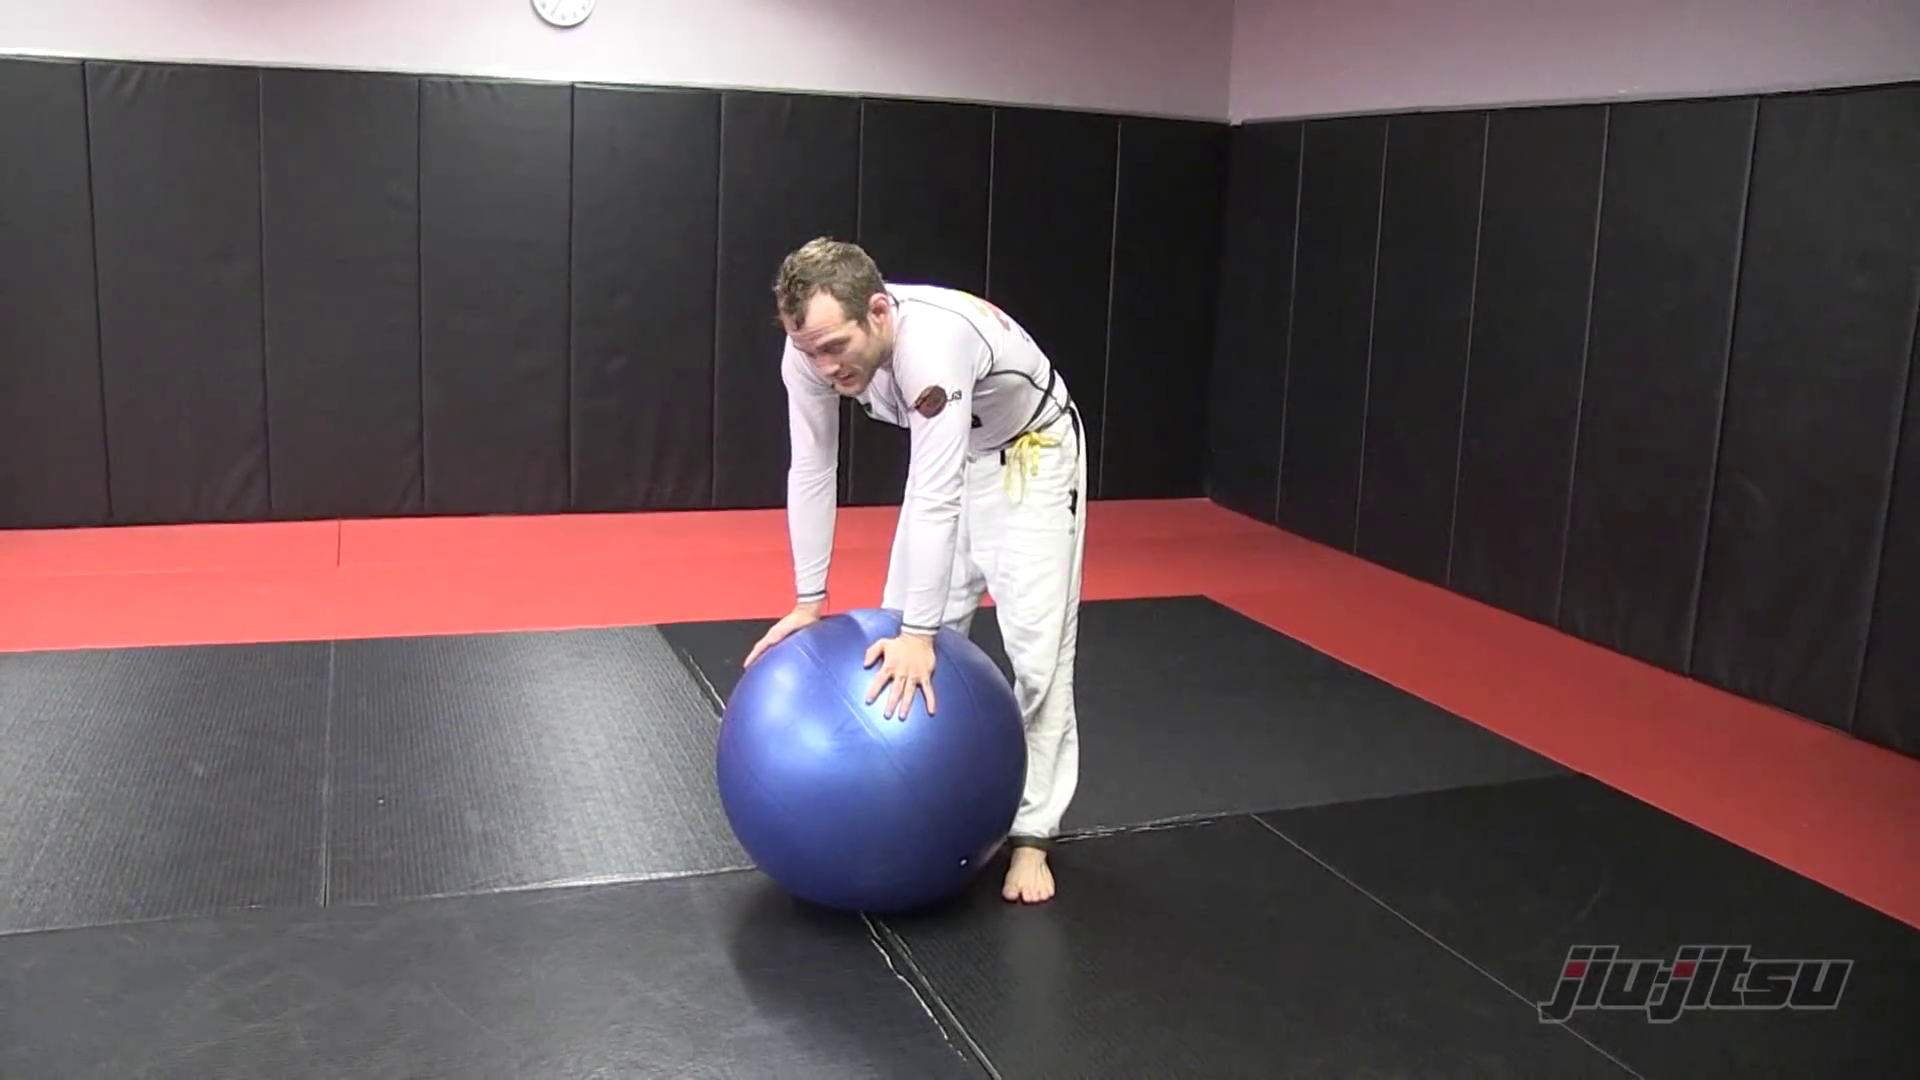yogaball: (703, 618, 1060, 927)
